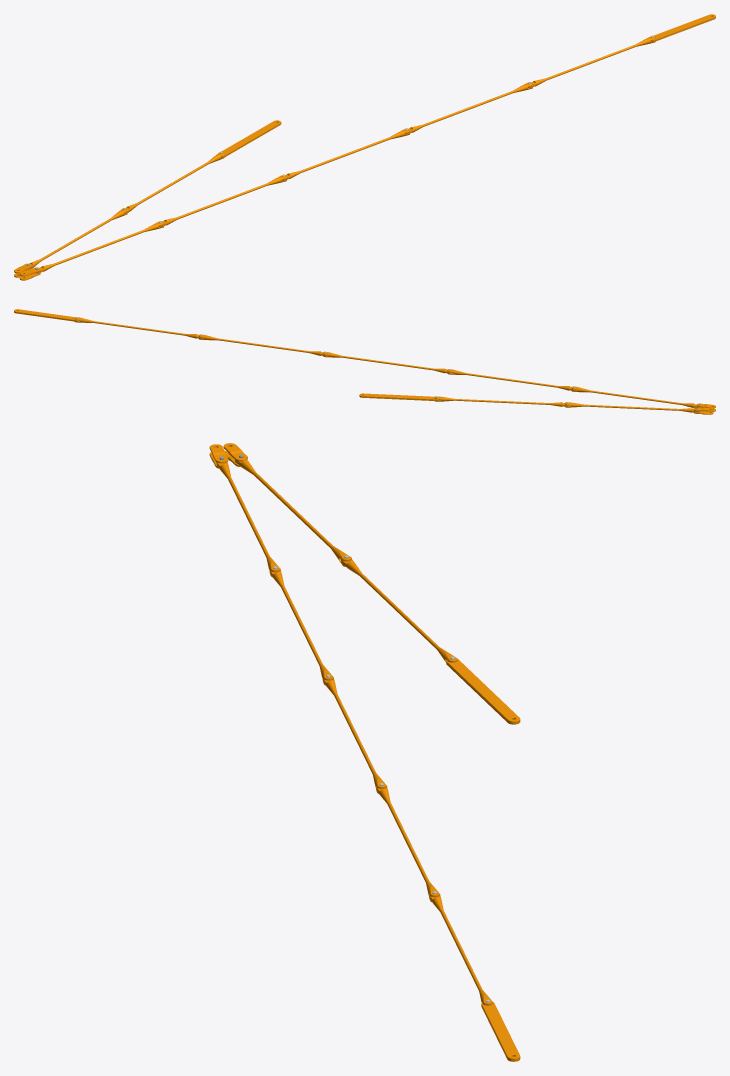
Rendered from fore_connector.obj.
3 renders of one model, top to bottom at view 1: azimuth 30°, elevation 25°; view 2: azimuth 150°, elevation 25°; view 3: azimuth 270°, elevation 25°, orthographic. The views are drawn at different scales.
Visible parts, largest first — view 1: fore cable_3-1, fore cable_4-1, fore cable_5-1, fore cable_6-1, fore cable_7-1; view 2: fore cable_2-1, fore cable-1, fore cable_6-1, fore cable_5-1, fore cable_3-1, fore cable_4-1, fore cable_7-1, fore jib connector, fore jib connector_2, fore jib connector_1; view 3: no part large enough to name.
Boxes of the visible parts, x1=… form: fore cable_3-1: x1=35, y1=221, x2=163, y2=273; fore cable_4-1: x1=159, y1=174, x2=286, y2=227; fore cable_5-1: x1=282, y1=128, x2=409, y2=180; fore cable_6-1: x1=405, y1=82, x2=532, y2=134; fore cable_7-1: x1=528, y1=35, x2=655, y2=88; fore cable_2-1: x1=434, y1=396, x2=570, y2=406; fore cable-1: x1=565, y1=402, x2=700, y2=412; fore cable_6-1: x1=199, y1=334, x2=328, y2=356; fore cable_5-1: x1=323, y1=351, x2=452, y2=373; fore cable_3-1: x1=571, y1=386, x2=700, y2=407; fore cable_4-1: x1=447, y1=369, x2=576, y2=390; fore cable_7-1: x1=74, y1=317, x2=203, y2=338; fore jib connector: x1=383, y1=394, x2=440, y2=401; fore jib connector_2: x1=24, y1=310, x2=79, y2=321; fore jib connector_1: x1=359, y1=393, x2=416, y2=399.
Bounding box in the file's own units: 26586 × 210 × 5694.
